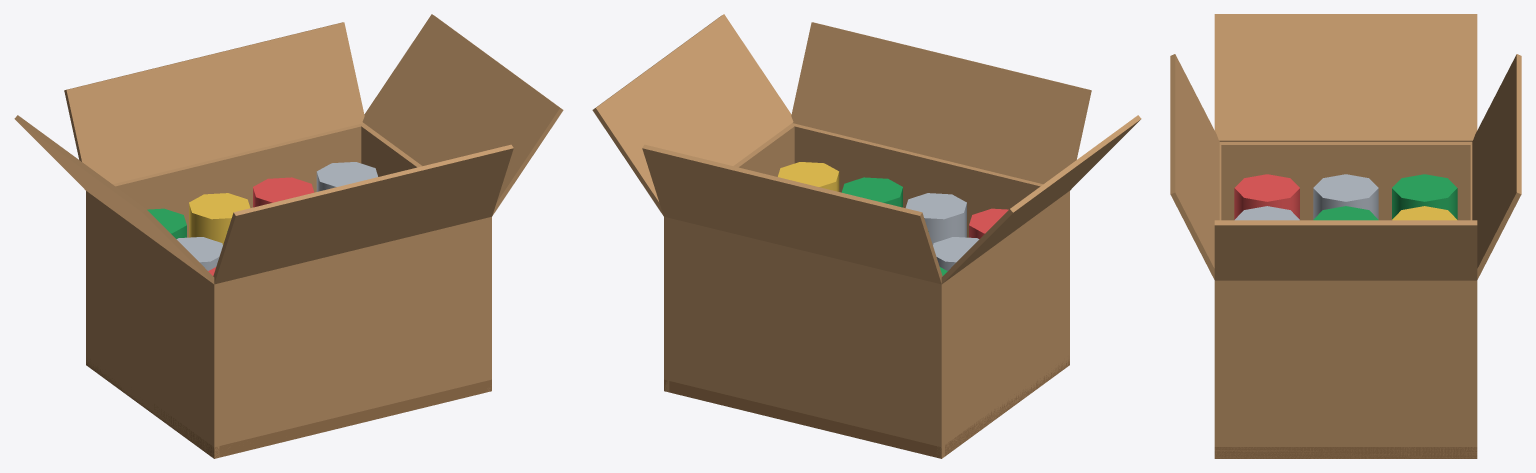
File: open_box.glb
3 views of the same model, side by side, from view 1: azimuth 30°, elevation 25°; view 2: azimuth 150°, elevation 25°; view 3: azimuth 270°, elevation 25° (orthographic). The views are drawn at different scales.
Parts seen in each view (by area): view 1: open_box; view 2: open_box; view 3: open_box.
Boxes of the visible parts, left/top/right/bottom form: open_box: left=14, top=14, right=563, bottom=458; open_box: left=592, top=14, right=1141, bottom=458; open_box: left=1170, top=14, right=1521, bottom=458.
Bounding box in the file's own units: 0.7571 × 0.4584 × 0.5352.
